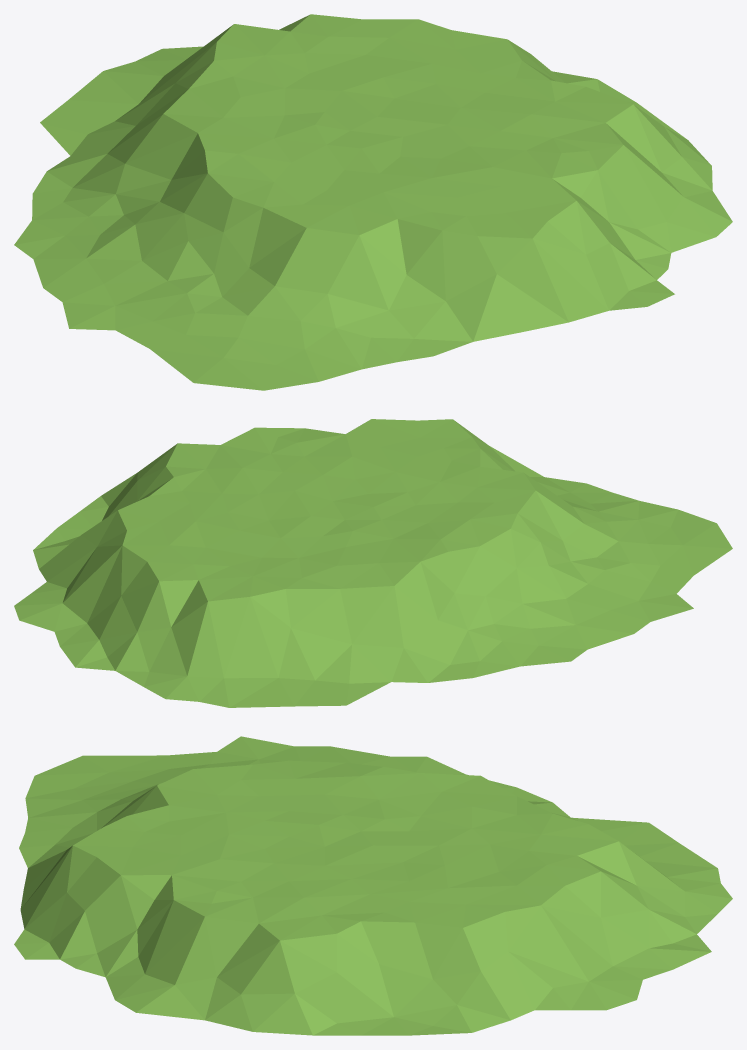
Rendered from MT_Mountain_M_b_09_LOD.fbx.
3 renders of one model, top to bottom at view 1: azimuth 30°, elevation 25°; view 2: azimuth 150°, elevation 25°; view 3: azimuth 270°, elevation 25°, orthographic. The views are drawn at different scales.
Parts seen in each view (by area): view 1: MT_Mountain_M_b_09_LOD0; view 2: MT_Mountain_M_b_09_LOD0; view 3: MT_Mountain_M_b_09_LOD0.
Boxes of the visible parts, bbox=[...] form: MT_Mountain_M_b_09_LOD0: bbox=[14, 14, 732, 390]; MT_Mountain_M_b_09_LOD0: bbox=[14, 419, 732, 707]; MT_Mountain_M_b_09_LOD0: bbox=[14, 736, 732, 1035].
Size of what is drawn, in the model's own units: 4609 by 487 by 4681.
